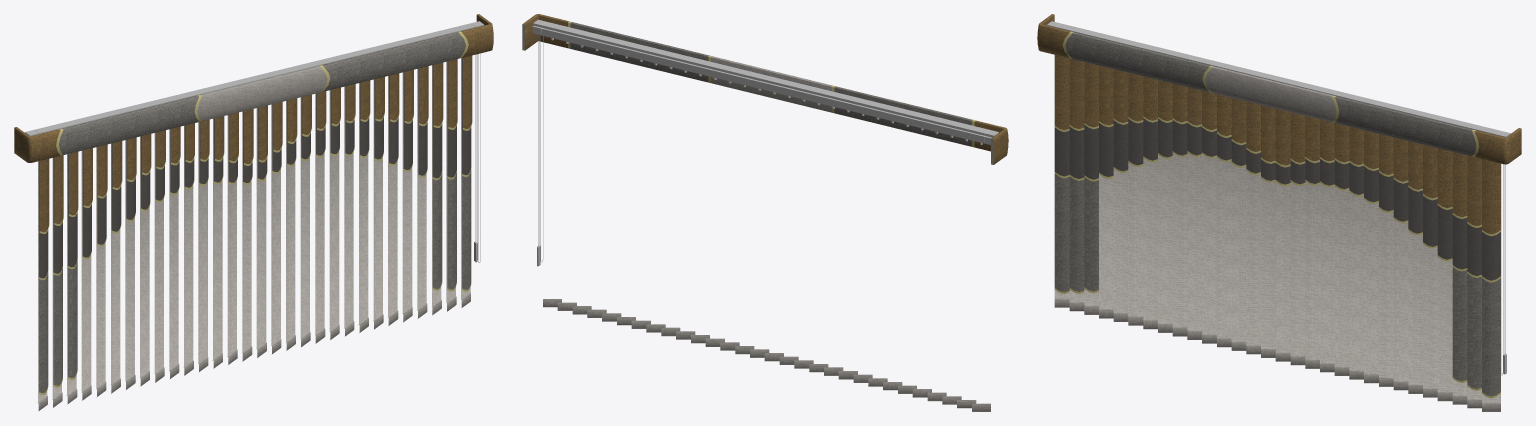
Rendered from blind.glb.
The picture shows the model from 3 angles, left to right: view 1: azimuth 30°, elevation 25°; view 2: azimuth 150°, elevation 25°; view 3: azimuth 330°, elevation 25°; orthographic projection.
Parts seen in each view (by area): view 1: Node; view 2: Node; view 3: Node.
Boxes of the visible parts, bbox=[...] form: Node: bbox=[14, 14, 493, 411]; Node: bbox=[522, 14, 1008, 411]; Node: bbox=[1037, 14, 1521, 411].
Bounding box in the file's own units: 2.55 × 1.47 × 0.15.
6 materials, 4 textured.
